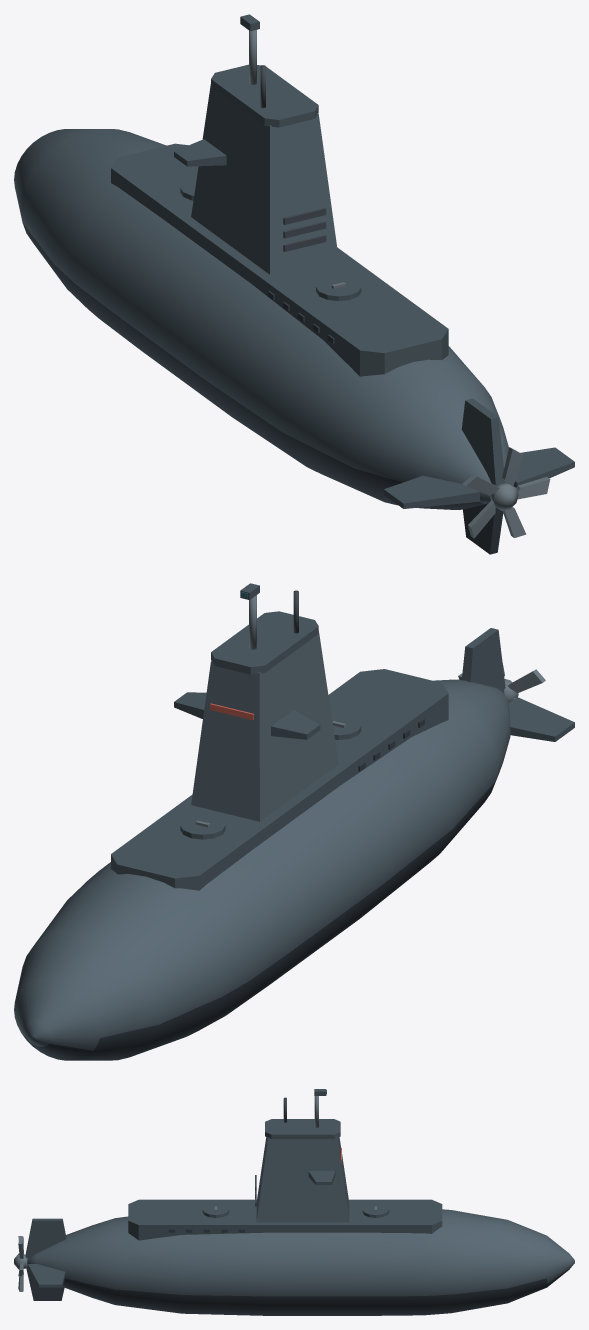
Rendered from EnemySubmarine.fbx.
3 renders of one model, top to bottom at view 1: azimuth 30°, elevation 25°; view 2: azimuth 150°, elevation 25°; view 3: azimuth 270°, elevation 25°, orthographic. The views are drawn at different scales.
Visible parts, largest first — view 1: EnemySubmarine_Visual, Propeller_Visual; view 2: EnemySubmarine_Visual, Propeller_Visual; view 3: EnemySubmarine_Visual, Propeller_Visual.
Part boxes in pixels (x1,y1,x2,y2): EnemySubmarine_Visual: (14, 64, 574, 554); Propeller_Visual: (462, 447, 550, 538); EnemySubmarine_Visual: (14, 590, 574, 1060); Propeller_Visual: (458, 663, 545, 702); EnemySubmarine_Visual: (25, 1097, 574, 1315); Propeller_Visual: (14, 1236, 27, 1291).
Bounding box in the file's own units: 175 × 345 × 800.
